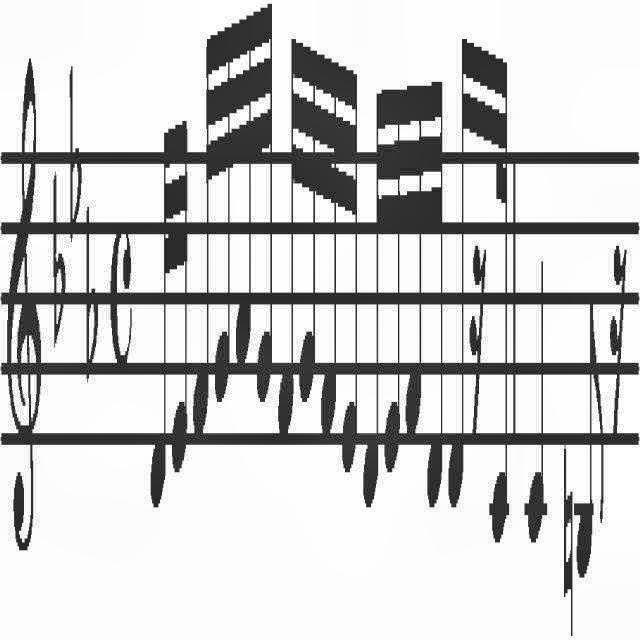Bass-clef: (6, 49, 42, 560)
Bemol: (84, 196, 100, 392), (68, 56, 84, 248), (53, 162, 67, 360)
Eighth-note: (574, 304, 604, 592)
Quarter-note: (524, 250, 548, 550)
Sixteenth-note: (447, 21, 469, 518)
